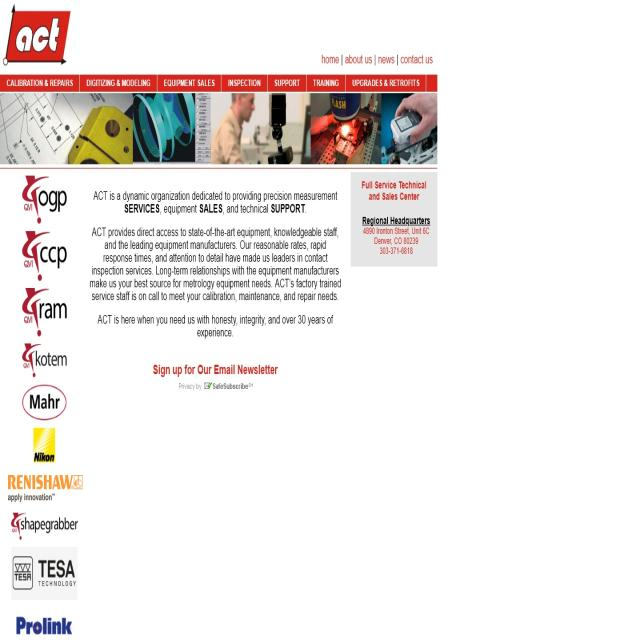button: (3, 75, 77, 93), (350, 75, 424, 92), (83, 76, 153, 93), (161, 74, 218, 93), (223, 73, 265, 91), (269, 76, 304, 92), (308, 74, 343, 90), (399, 54, 435, 67), (320, 51, 340, 68), (344, 54, 374, 64), (377, 52, 396, 66)
image: (1, 170, 83, 640), (1, 92, 438, 168), (2, 6, 71, 65)
link: (150, 362, 280, 379)
text: (89, 186, 341, 338), (359, 212, 432, 258), (357, 174, 432, 204)
